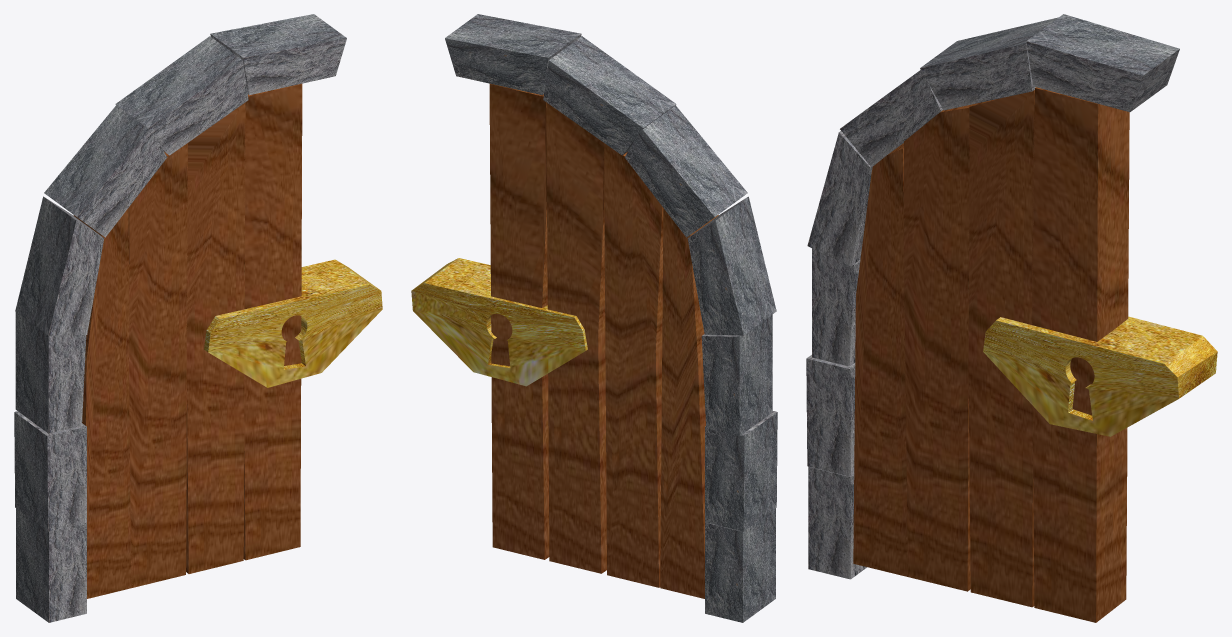
Rendered from LeftDoors.obj.
3 views of the same model, side by side, from view 1: azimuth 30°, elevation 25°; view 2: azimuth 150°, elevation 25°; view 3: azimuth 330°, elevation 25° (orthographic). The views are drawn at different scales.
Visible parts, largest first — view 1: MidleBoards_立方体.002, MidleBoard_立方体.001, CenterBoard_立方体.003, LeftBoard_立方体, Lock_立方体.011, LeftUnderBlocksss_立方体.007, LeftUnderBlocksssss_立方体.009, LeftUnderBlockssss_立方体.008, LeftUnderBlock_立方体.005, LeftUnderBlockssssss_立方体.010, LeftUnderBlockss_立方体.006, LeftUnderBlocks_立方体.004; view 2: MidleBoards_立方体.002, MidleBoard_立方体.001, CenterBoard_立方体.003, LeftBoard_立方体, Lock_立方体.011, LeftUnderBlocksssss_立方体.009, LeftUnderBlocksss_立方体.007, LeftUnderBlockssss_立方体.008, LeftUnderBlock_立方体.005, LeftUnderBlockssssss_立方体.010, LeftUnderBlockss_立方体.006, LeftUnderBlocks_立方体.004; view 3: CenterBoard_立方体.003, MidleBoard_立方体.001, MidleBoards_立方体.002, LeftBoard_立方体, Lock_立方体.011, LeftUnderBlockssssss_立方体.010, LeftUnderBlocksssss_立方体.009, LeftUnderBlock_立方体.005, LeftUnderBlocksss_立方体.007, LeftUnderBlocks_立方体.004, LeftUnderBlockssss_立方体.008, LeftUnderBlockss_立方体.006.
Boxes of the visible parts, <box> form: MidleBoards_立方体.002: <box>186,102,245,573</box>; MidleBoard_立方体.001: <box>128,143,187,587</box>; CenterBoard_立方体.003: <box>243,83,302,560</box>; LeftBoard_立方体: <box>73,208,132,598</box>; Lock_立方体.011: <box>204,259,382,387</box>; LeftUnderBlocksss_立方体.007: <box>15,196,104,335</box>; LeftUnderBlocksssss_立方体.009: <box>115,36,248,155</box>; LeftUnderBlockssss_立方体.008: <box>44,105,167,237</box>; LeftUnderBlock_立方体.005: <box>14,411,86,531</box>; LeftUnderBlockssssss_立方体.010: <box>210,14,346,95</box>; LeftUnderBlockss_立方体.006: <box>15,312,86,433</box>; LeftUnderBlocks_立方体.004: <box>16,508,86,622</box>; MidleBoards_立方体.002: <box>546,102,606,573</box>; MidleBoard_立方体.001: <box>604,143,663,587</box>; CenterBoard_立方体.003: <box>489,83,549,559</box>; LeftBoard_立方体: <box>660,208,718,598</box>; Lock_立方体.011: <box>411,258,587,386</box>; LeftUnderBlocksssss_立方体.009: <box>543,36,676,155</box>; LeftUnderBlocksss_立方体.007: <box>687,196,776,335</box>; LeftUnderBlockssss_立方体.008: <box>624,105,747,237</box>; LeftUnderBlock_立方体.005: <box>705,411,777,531</box>; LeftUnderBlockssssss_立方体.010: <box>445,14,581,95</box>; LeftUnderBlockss_立方体.006: <box>701,314,772,436</box>; LeftUnderBlocks_立方体.004: <box>705,508,775,622</box>; CenterBoard_立方体.003: <box>1032,87,1129,622</box>; MidleBoard_立方体.001: <box>903,104,972,591</box>; MidleBoards_立方体.002: <box>968,90,1034,607</box>; LeftBoard_立方体: <box>853,143,907,576</box>; Lock_立方体.011: <box>983,316,1217,436</box>; LeftUnderBlockssssss_立方体.010: <box>1026,14,1179,112</box>; LeftUnderBlocksssss_立方体.009: <box>920,17,1058,110</box>; LeftUnderBlock_立方体.005: <box>806,354,855,476</box>; LeftUnderBlocksss_立方体.007: <box>807,131,872,266</box>; LeftUnderBlocks_立方体.004: <box>808,466,866,579</box>; LeftUnderBlockssss_立方体.008: <box>840,69,942,167</box>; LeftUnderBlockss_立方体.006: <box>812,248,860,366</box>.
Size of the model in its own units: 2.46 by 3.65 by 0.4689.
Materials: 3 (3 with a texture image).
